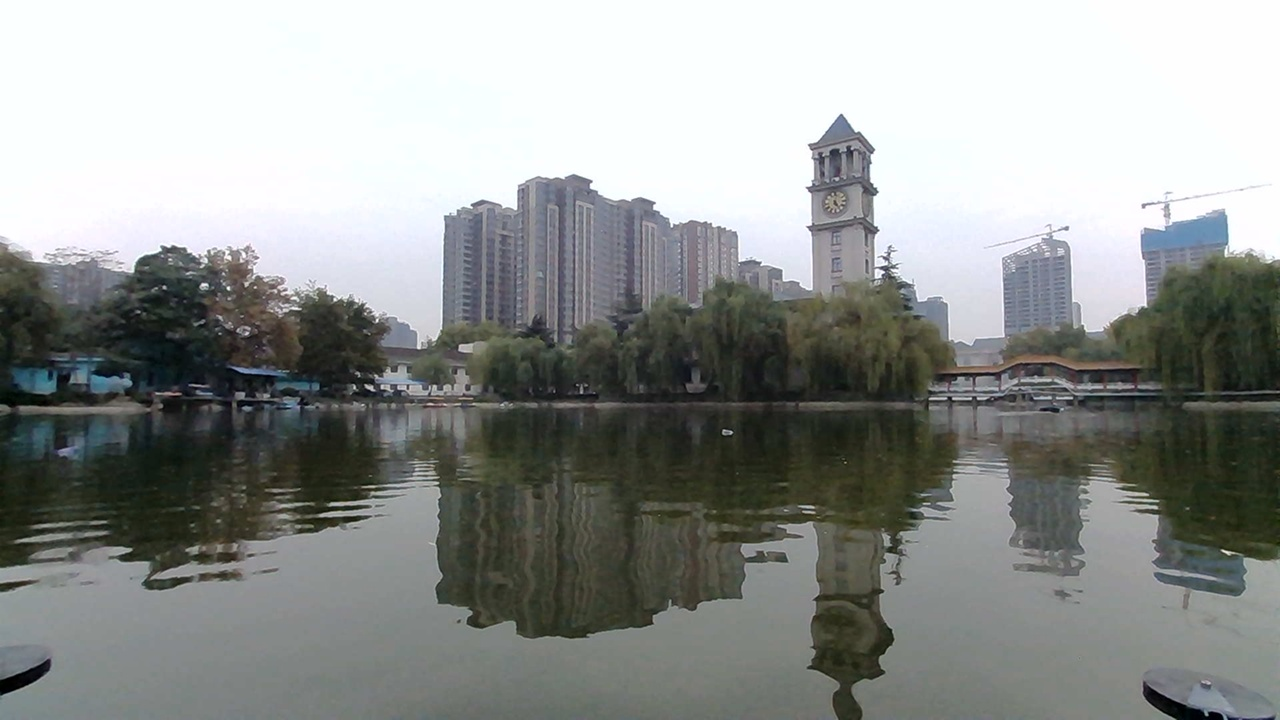bottle: (53, 433, 102, 470), (704, 414, 747, 443)
